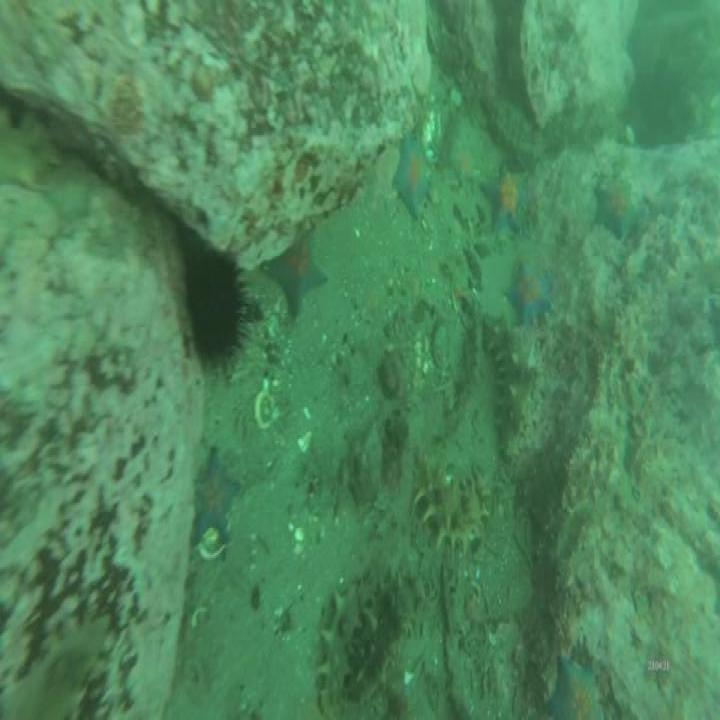echinus: (186, 263, 240, 368)
holothurian: (362, 580, 431, 708), (486, 323, 542, 454), (418, 462, 488, 546), (314, 589, 361, 711)
scallop: (423, 110, 444, 164), (201, 524, 223, 558)
starfish: (266, 246, 328, 318), (197, 457, 239, 544), (548, 659, 599, 720), (484, 167, 529, 231), (394, 142, 430, 221), (596, 179, 639, 236), (510, 265, 552, 323)
